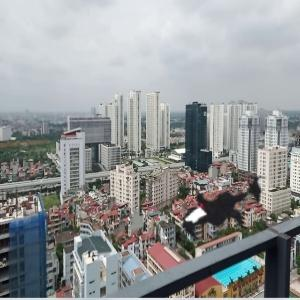drone: (147, 126, 294, 273)
